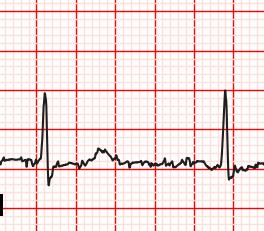ST Depression: (34, 155, 63, 187)
